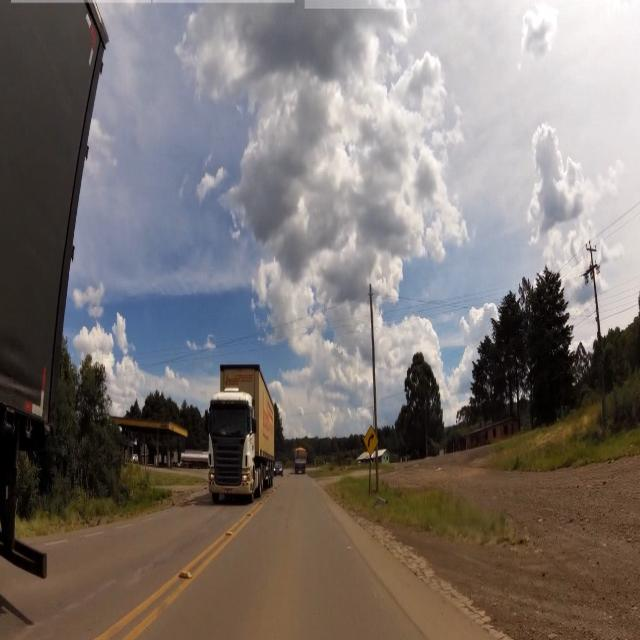A-2b: (364, 423, 380, 458)
